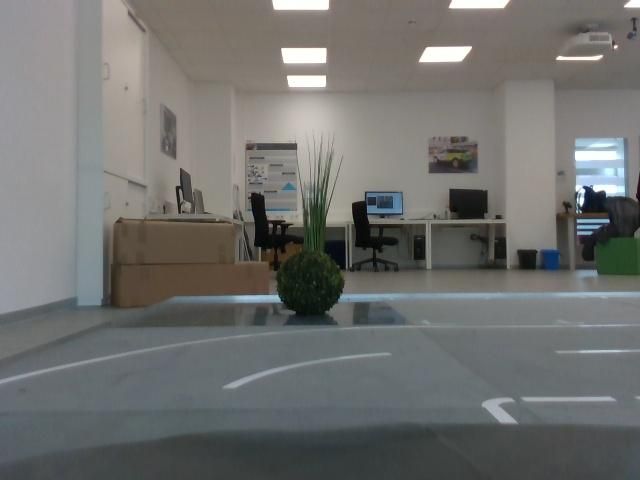potted plant: (295, 147, 346, 249), (274, 247, 344, 317)
